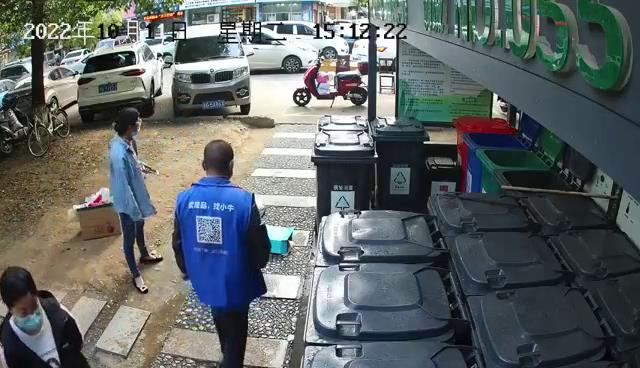person: (1, 266, 90, 368)
worker: (172, 139, 272, 368), (107, 107, 164, 294)
zhizhipin: (73, 186, 122, 242), (267, 224, 298, 257)
